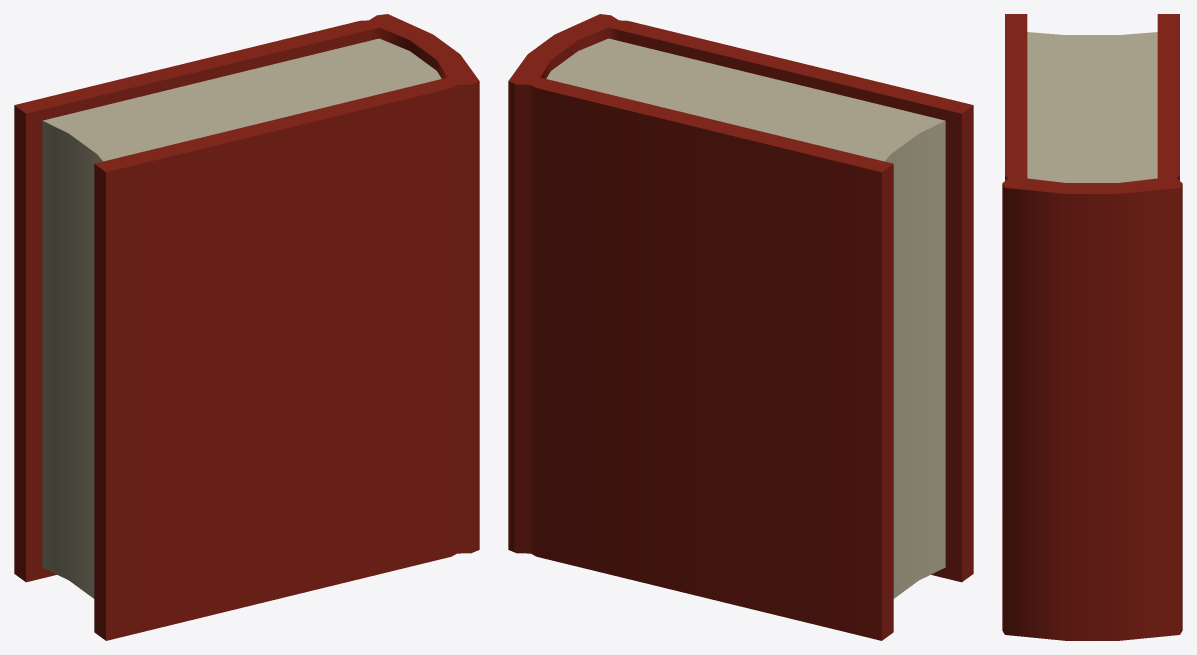
The model's file is Book_Big_DeepRed.glb.
3 renders of one model, left to right at view 1: azimuth 30°, elevation 25°; view 2: azimuth 150°, elevation 25°; view 3: azimuth 270°, elevation 25°, orthographic. The views are drawn at different scales.
Parts seen in each view (by area): view 1: Book_Big_DeepRed; view 2: Book_Big_DeepRed; view 3: Book_Big_DeepRed.
Part boxes in pixels (bbox=[...]): Book_Big_DeepRed: bbox=[14, 14, 479, 640]; Book_Big_DeepRed: bbox=[508, 14, 973, 640]; Book_Big_DeepRed: bbox=[1002, 14, 1182, 640].
Bounding box in the file's own units: 0.3881 × 0.4495 × 0.1644.
2 materials, 2 textured.
